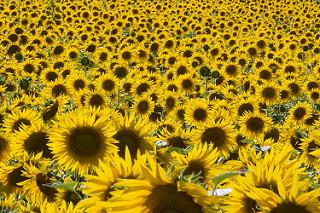sunflower: (111, 167, 220, 213), (48, 110, 117, 172), (227, 166, 308, 213), (21, 152, 72, 213), (108, 109, 158, 169), (11, 123, 63, 168), (195, 122, 236, 160), (0, 105, 43, 140), (184, 96, 219, 126), (239, 114, 271, 141), (229, 96, 261, 120), (47, 78, 74, 100), (128, 79, 156, 100), (255, 82, 281, 104), (290, 100, 311, 127), (130, 96, 154, 118), (175, 76, 199, 96), (68, 74, 90, 95), (97, 74, 119, 95), (161, 92, 181, 115), (219, 62, 244, 79), (111, 63, 132, 83), (118, 48, 137, 65), (303, 75, 320, 94), (284, 79, 303, 96), (254, 67, 275, 82), (19, 61, 38, 77), (281, 62, 300, 76), (165, 51, 181, 67), (254, 37, 269, 52), (308, 88, 320, 106), (5, 32, 20, 45)
